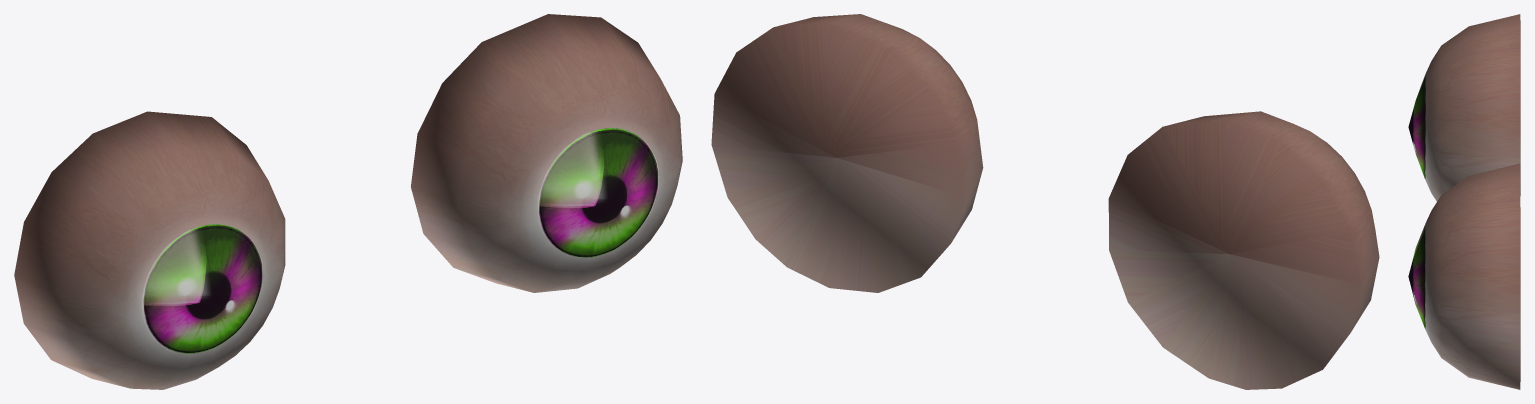
File: femaleeye3.glb
3 renders of one model, left to right at view 1: azimuth 30°, elevation 25°; view 2: azimuth 150°, elevation 25°; view 3: azimuth 270°, elevation 25°, orthographic. The views are drawn at different scales.
Parts seen in each view (by area): view 1: EyeRight, EyeLeft; view 2: EyeLeft, EyeRight; view 3: EyeLeft, EyeRight.
Boxes of the visible parts, <box> form: EyeRight: <box>14,111,285,389</box>; EyeLeft: <box>411,14,682,292</box>; EyeLeft: <box>711,14,983,292</box>; EyeRight: <box>1108,111,1379,389</box>; EyeLeft: <box>1408,163,1520,389</box>; EyeRight: <box>1408,14,1520,201</box>.
Size of the model in its own units: 0.1084 by 0.0422 by 0.021.
1 material, 1 textured.
